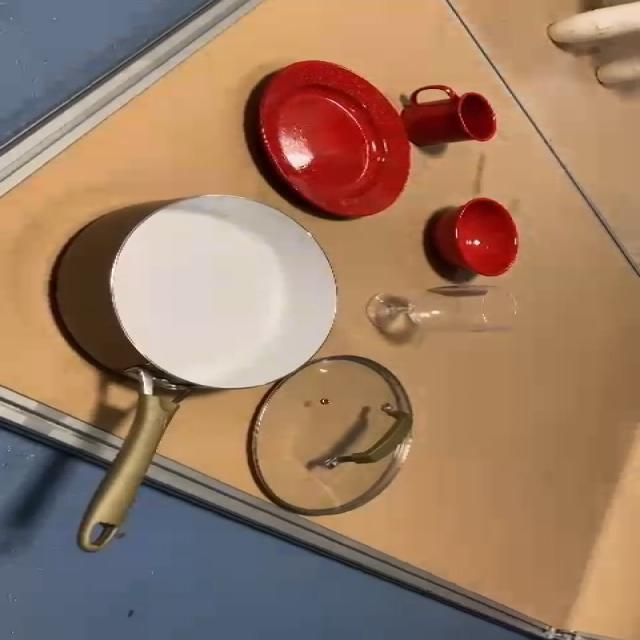Bowl: (425, 194, 523, 286)
Glass: (372, 284, 520, 341)
Plate: (253, 59, 410, 222)
cup: (400, 88, 507, 142)
pot: (45, 192, 327, 533)
